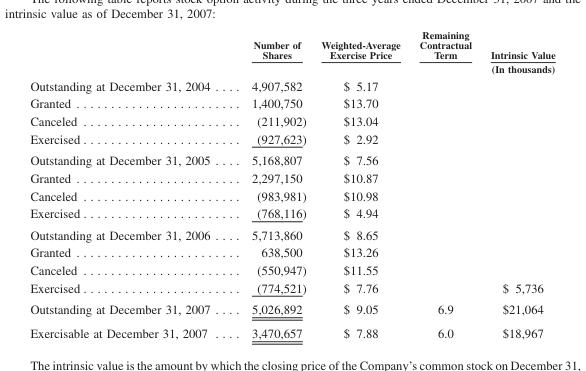table: (29, 28, 554, 340)
table column: (29, 28, 230, 340), (313, 28, 409, 340), (230, 28, 313, 340), (480, 28, 554, 340), (409, 28, 480, 340)
table column header: (29, 28, 554, 76)
table row: (29, 28, 554, 76), (29, 298, 554, 320), (29, 129, 554, 149), (29, 223, 554, 243), (29, 278, 554, 298), (29, 320, 554, 340), (29, 149, 554, 168), (29, 204, 554, 223), (29, 76, 554, 94), (29, 111, 554, 129), (29, 168, 554, 186), (29, 186, 554, 204), (29, 260, 554, 278), (29, 94, 554, 111), (29, 243, 554, 260)
